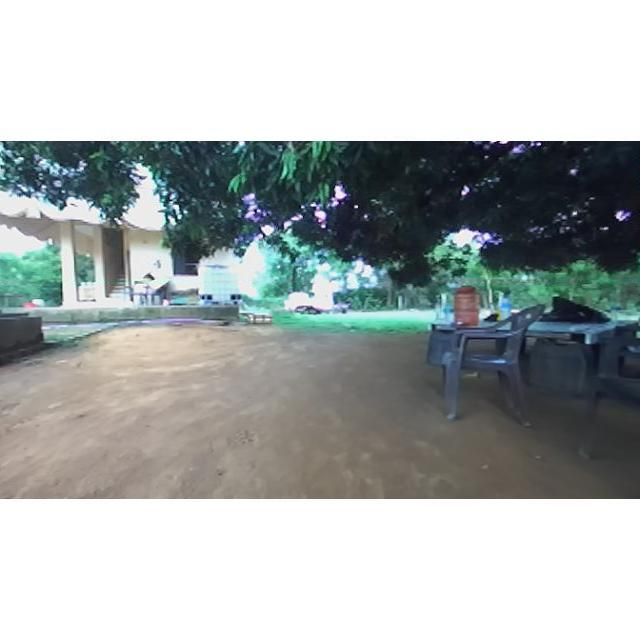direk: (4, 141, 640, 281)
